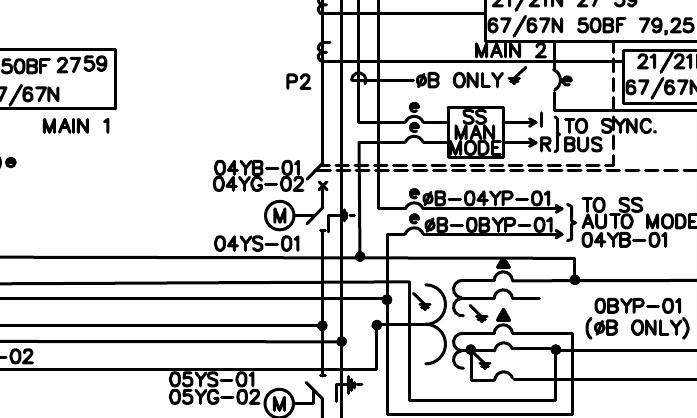115_3ways_ds_w_motor: (263, 199, 357, 234)
115_breaker: (305, 162, 329, 192)
115_vt_1p: (411, 257, 515, 371)
ss_man_mode: (446, 105, 506, 160)
